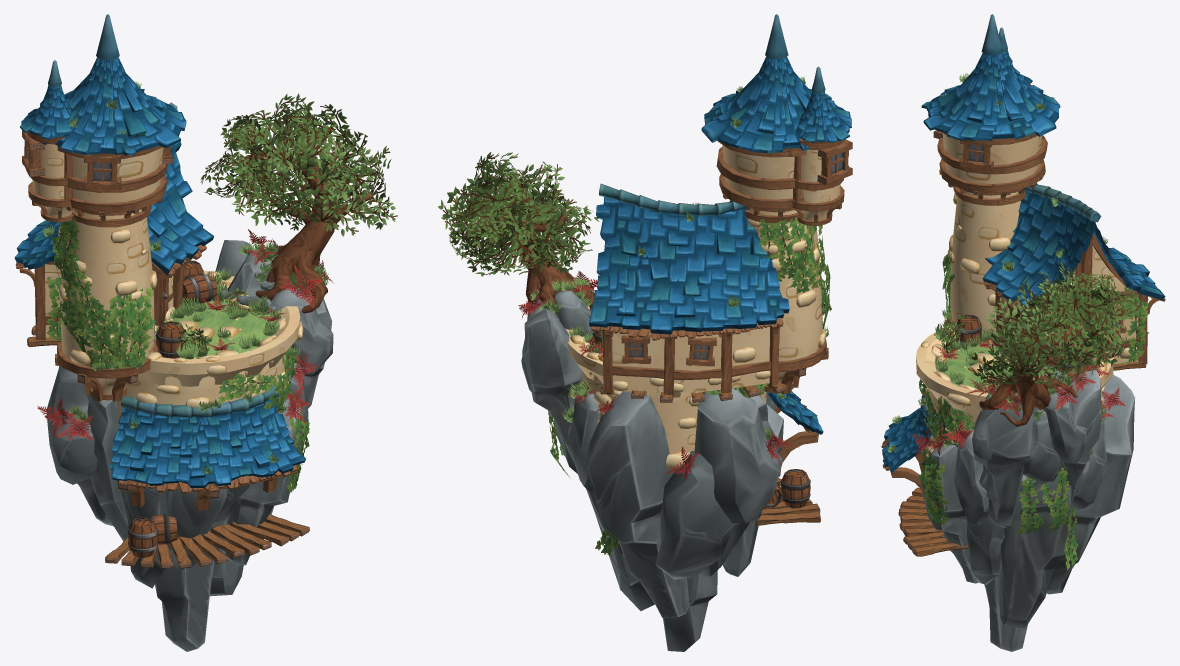
File: tower.obj
3 views of the same model, side by side, from view 1: azimuth 30°, elevation 25°; view 2: azimuth 150°, elevation 25°; view 3: azimuth 270°, elevation 25° (orthographic). The views are drawn at different scales.
Parts seen in each view (by area): view 1: roof, rocks, leaves, klimop, tower_base, wood_structure, base_tower, grass, wood_beams, tree_trunk, stone_details, barrels (+5 smaller); view 2: rocks, roof, leaves, wood_structure, tower_base, house_base, klimop, stone_details, base_tower, windows, grass, tree_trunk (+4 smaller); view 3: rocks, roof, leaves, tower_base, klimop, wood_structure, grass, ferns, tree_trunk, base_tower, wood_beams, stone_details (+4 smaller).
Part boxes in pixels (x1,y1,x2,y2): roof: [14, 14, 305, 487]; rocks: [46, 240, 333, 651]; leaves: [177, 93, 397, 355]; klimop: [46, 214, 309, 493]; tower_base: [32, 144, 162, 400]; wood_structure: [19, 132, 298, 510]; base_tower: [116, 271, 300, 427]; grass: [42, 81, 328, 473]; wood_beams: [27, 325, 309, 568]; tree_trunk: [240, 150, 372, 313]; stone_details: [58, 226, 303, 407]; barrels: [127, 260, 217, 557]; rocks: [521, 289, 783, 651]; roof: [589, 14, 851, 434]; leaves: [438, 152, 599, 276]; wood_structure: [603, 139, 845, 476]; tower_base: [722, 145, 840, 385]; house_base: [612, 326, 769, 392]; klimop: [548, 217, 831, 556]; stone_details: [570, 218, 825, 469]; base_tower: [565, 306, 766, 453]; windows: [621, 139, 852, 366]; grass: [529, 77, 830, 439]; tree_trunk: [489, 189, 594, 314]; rocks: [919, 366, 1135, 651]; roof: [882, 14, 1165, 472]; leaves: [941, 261, 1147, 387]; tower_base: [942, 133, 1041, 332]; klimop: [918, 248, 1149, 570]; wood_structure: [885, 84, 1158, 503]; grass: [886, 73, 1108, 454]; ferns: [913, 337, 1125, 455]; tree_trunk: [979, 284, 1084, 426]; base_tower: [916, 326, 1113, 448]; wood_beams: [898, 362, 1146, 556]; stone_details: [921, 192, 1137, 457].
Size of the model in its own units: 4.55 by 7.57 by 3.27.
10 materials, 10 textured.
